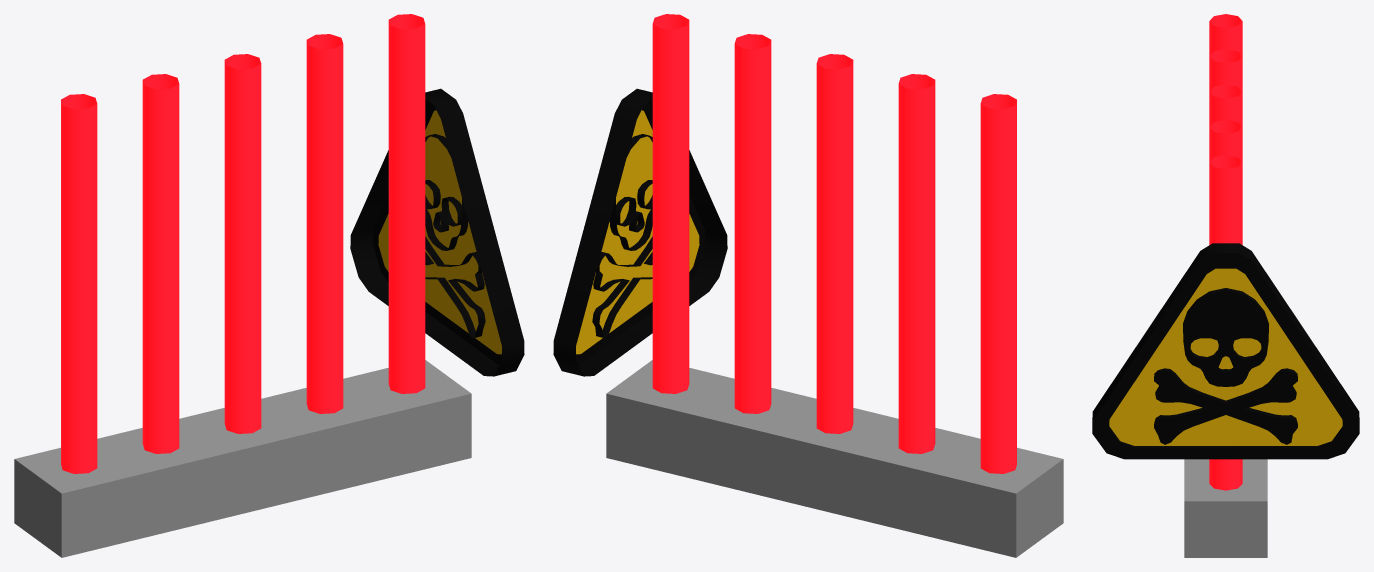
Rendered from laser_grid.fbx.
3 renders of one model, left to right at view 1: azimuth 30°, elevation 25°; view 2: azimuth 150°, elevation 25°; view 3: azimuth 270°, elevation 25°, orthographic. The views are drawn at different scales.
Parts seen in each view (by area): view 1: Circle, Cube, Plane; view 2: Circle, Cube, Plane; view 3: Plane, Circle, Cube.
Part boxes in pixels (x1,y1,x2,y2): Circle: (61, 14, 425, 473); Cube: (14, 360, 471, 557); Plane: (350, 88, 524, 376); Circle: (652, 14, 1016, 473); Cube: (606, 360, 1063, 557); Plane: (553, 88, 727, 376); Plane: (1092, 243, 1359, 459); Circle: (1209, 14, 1242, 490); Cube: (1184, 459, 1267, 557).
Size of the model in its own units: 2.02 by 2 by 1.28.
